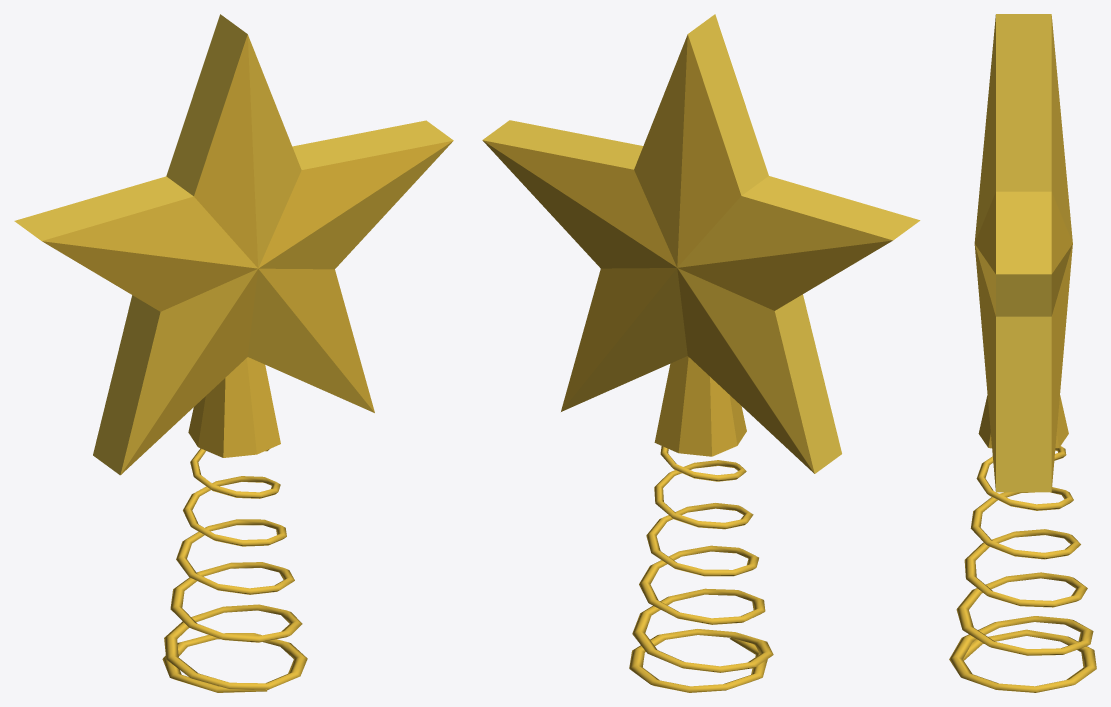
File: Starn1.fbx
3 views of the same model, side by side, from view 1: azimuth 30°, elevation 25°; view 2: azimuth 150°, elevation 25°; view 3: azimuth 270°, elevation 25° (orthographic).
Parts seen in each view (by area): view 1: Starn1; view 2: Starn1; view 3: Starn1.
Part boxes in pixels (x1,y1,x2,y2): Starn1: (14,14,453,692); Starn1: (482,14,920,692); Starn1: (949,14,1096,692).
Size of the model in its own units: 83.77 by 125 by 25.69.
